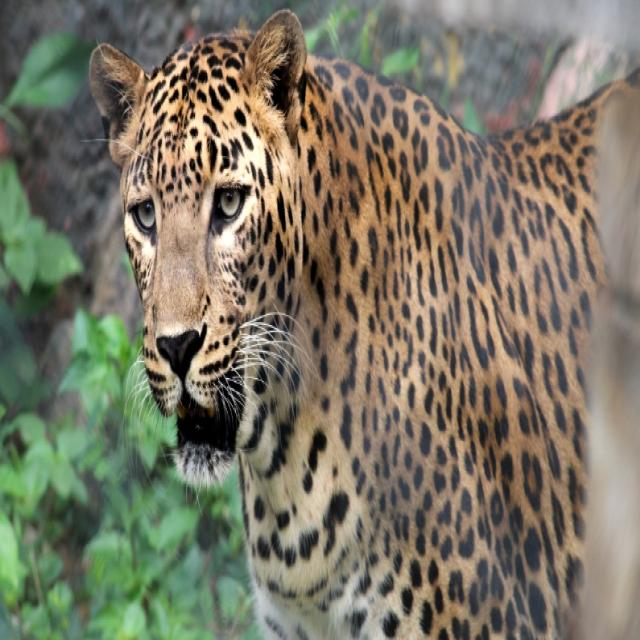Leopard: (88, 7, 640, 640)
